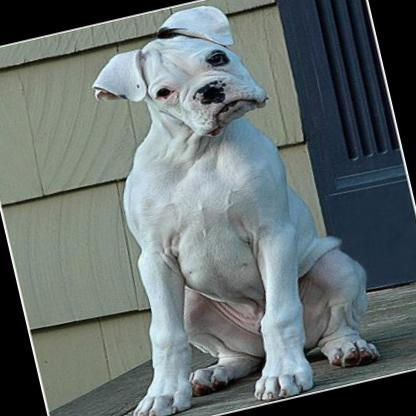boxer: (43, 0, 390, 416)
